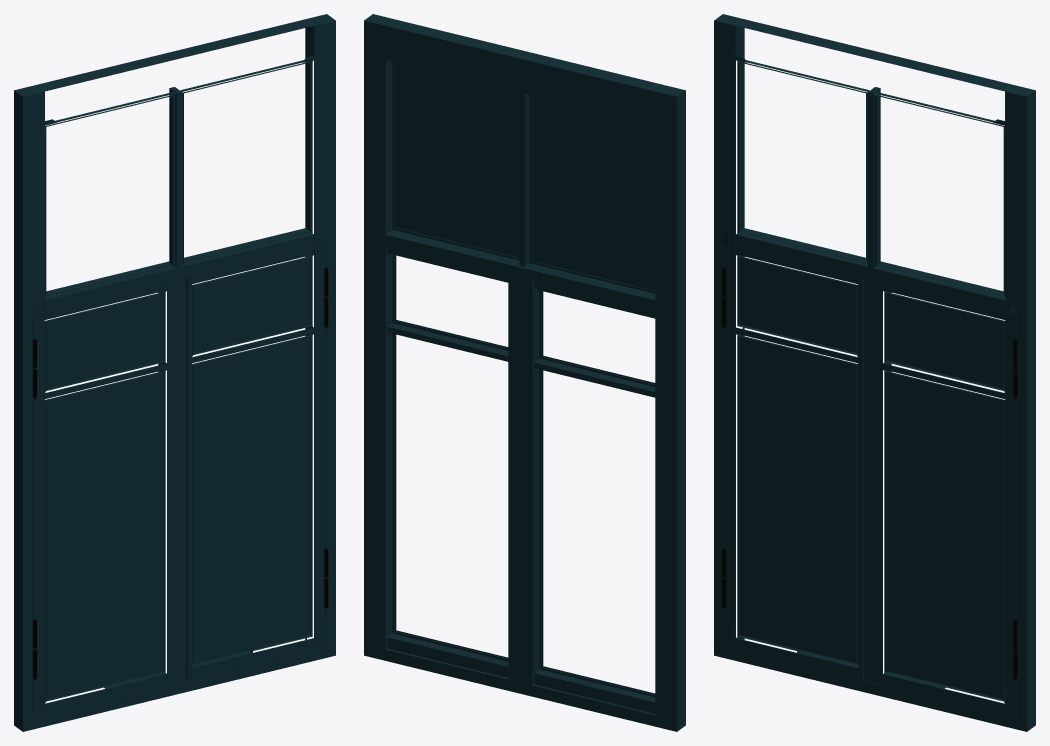
File: Project Name.gltf
3 renders of one model, left to right at view 1: azimuth 30°, elevation 25°; view 2: azimuth 150°, elevation 25°; view 3: azimuth 330°, elevation 25°, orthographic.
Visible parts, largest first — view 1: Buffer Object; view 2: Buffer Object; view 3: Buffer Object.
Boxes of the visible parts, x1,y1,x2,y2 form: Buffer Object: (14, 14, 335, 731); Buffer Object: (364, 14, 685, 731); Buffer Object: (714, 14, 1035, 731).
Bounding box in the file's own units: 1.16 × 2.25 × 0.0874.
